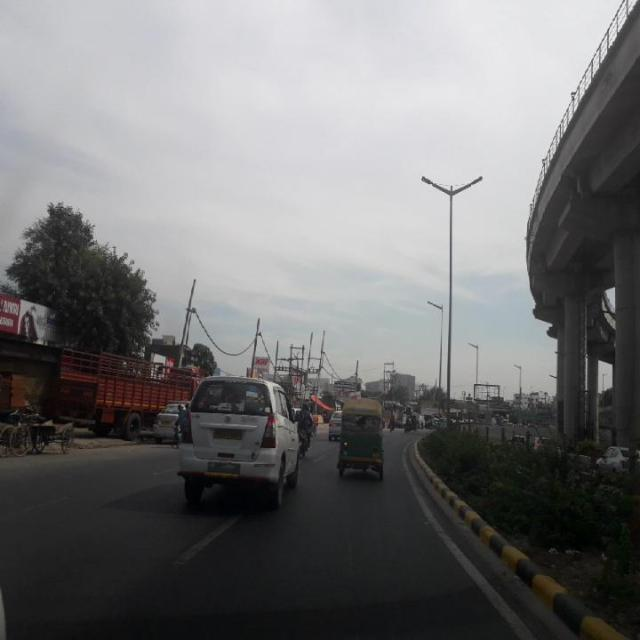D00: (335, 472, 366, 587)
